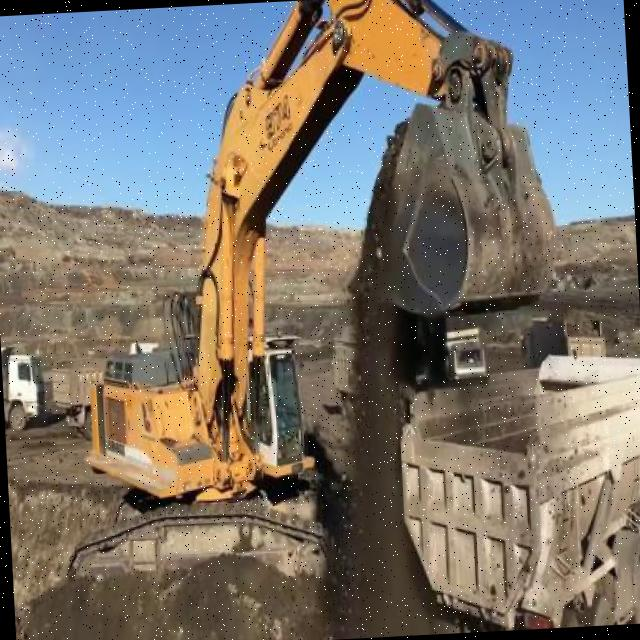Dump Truck: (396, 347, 640, 635), (50, 347, 104, 438), (1, 340, 48, 438)
Excavator: (36, 0, 581, 598)
